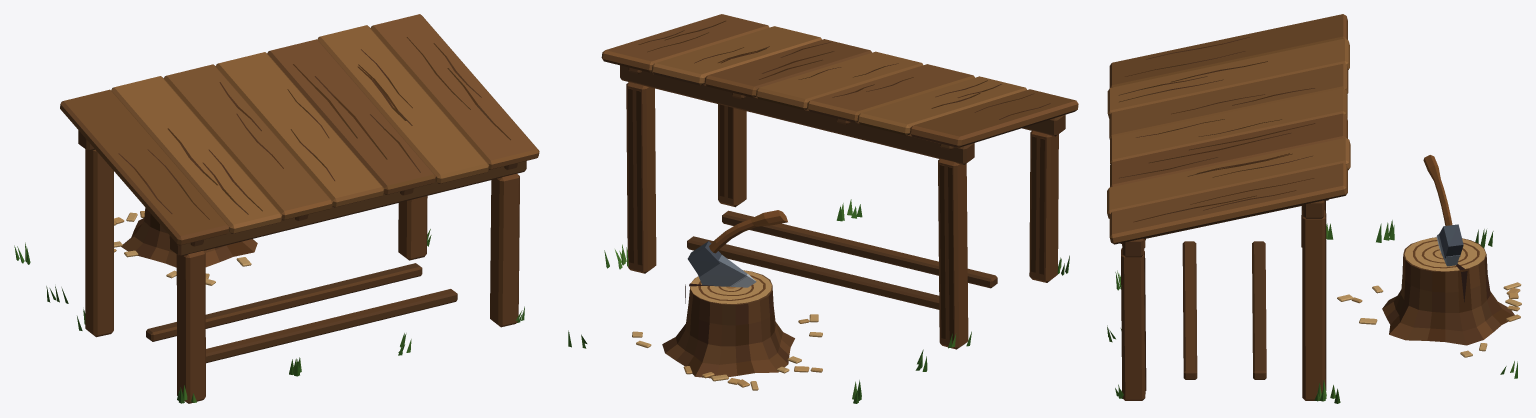
File: woodcutting-workshop.glb
3 renders of one model, left to right at view 1: azimuth 30°, elevation 25°; view 2: azimuth 150°, elevation 25°; view 3: azimuth 270°, elevation 25°, orthographic.
Parts seen in each view (by area): view 1: TownToonWoodcutter; view 2: TownToonWoodcutter; view 3: TownToonWoodcutter.
Part boxes in pixels (left/top/right/bottom): TownToonWoodcutter: left=14, top=14, right=539, bottom=403; TownToonWoodcutter: left=568, top=14, right=1078, bottom=403; TownToonWoodcutter: left=1107, top=14, right=1521, bottom=403.
Size of the model in its own units: 3.93 by 2.34 by 3.95.
